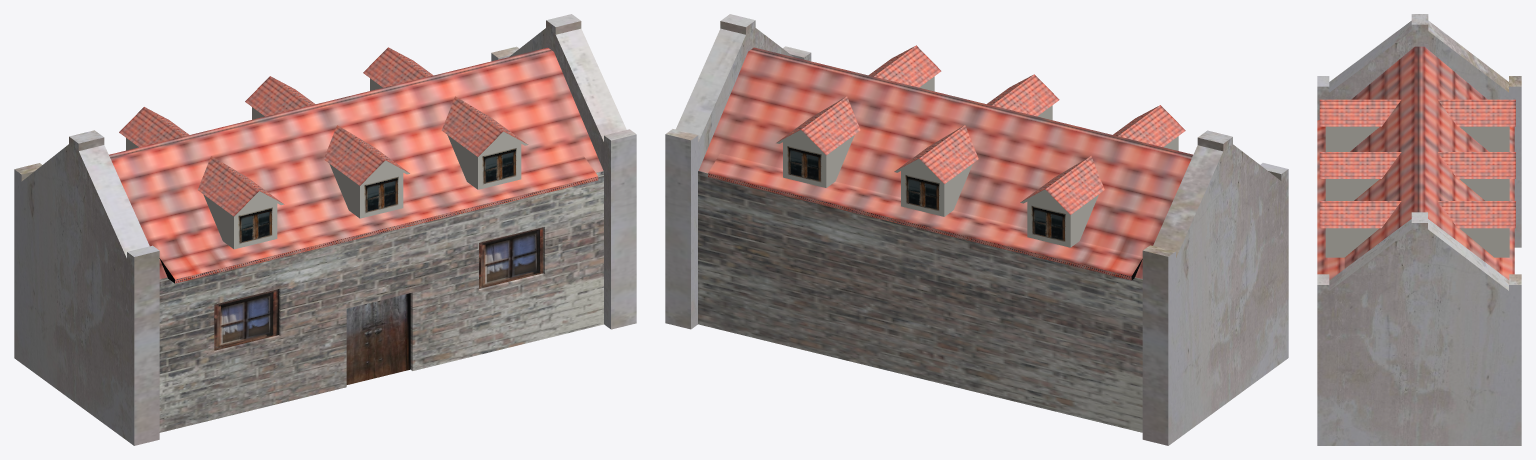
The picture shows the model from 3 angles, left to right: view 1: azimuth 30°, elevation 25°; view 2: azimuth 150°, elevation 25°; view 3: azimuth 270°, elevation 25°; orthographic projection. The views are drawn at different scales.
Visible parts, largest first — view 1: House2_pCube1; view 2: House2_pCube1; view 3: House2_pCube1.
Part boxes in pixels (x1,y1,x2,y2): House2_pCube1: (14, 14, 636, 445); House2_pCube1: (665, 14, 1288, 445); House2_pCube1: (1317, 14, 1521, 445).
Size of the model in its own units: 547 by 272 by 226.
